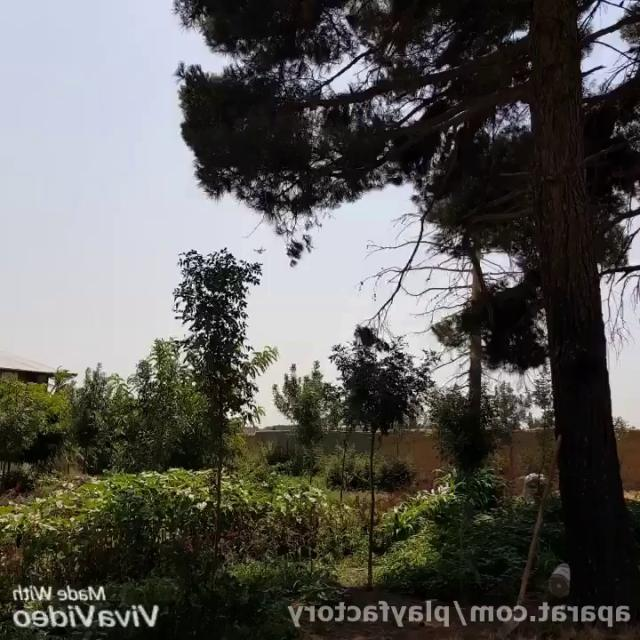drone: (250, 238, 270, 257)
